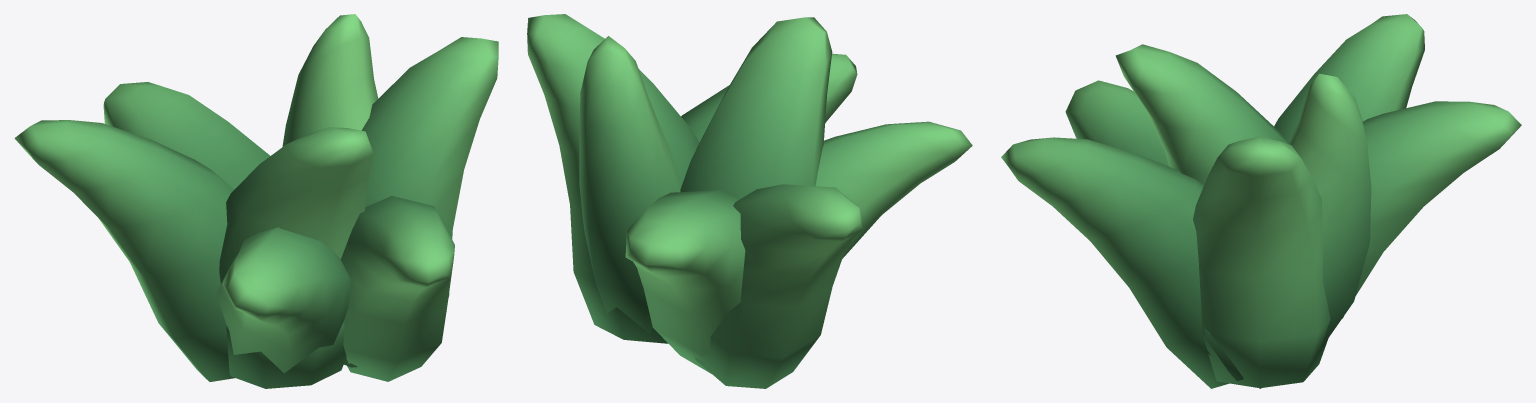
Rendered from Grass.fbx.
3 renders of one model, left to right at view 1: azimuth 30°, elevation 25°; view 2: azimuth 150°, elevation 25°; view 3: azimuth 270°, elevation 25°, orthographic.
Parts seen in each view (by area): view 1: pCube69; view 2: pCube69; view 3: pCube69.
Boxes of the visible parts, x1,y1,x2,y2 form: pCube69: (14, 14, 498, 388); pCube69: (527, 14, 972, 388); pCube69: (1001, 14, 1521, 388).
Bounding box in the file's own units: 95.44 × 73.02 × 108.
